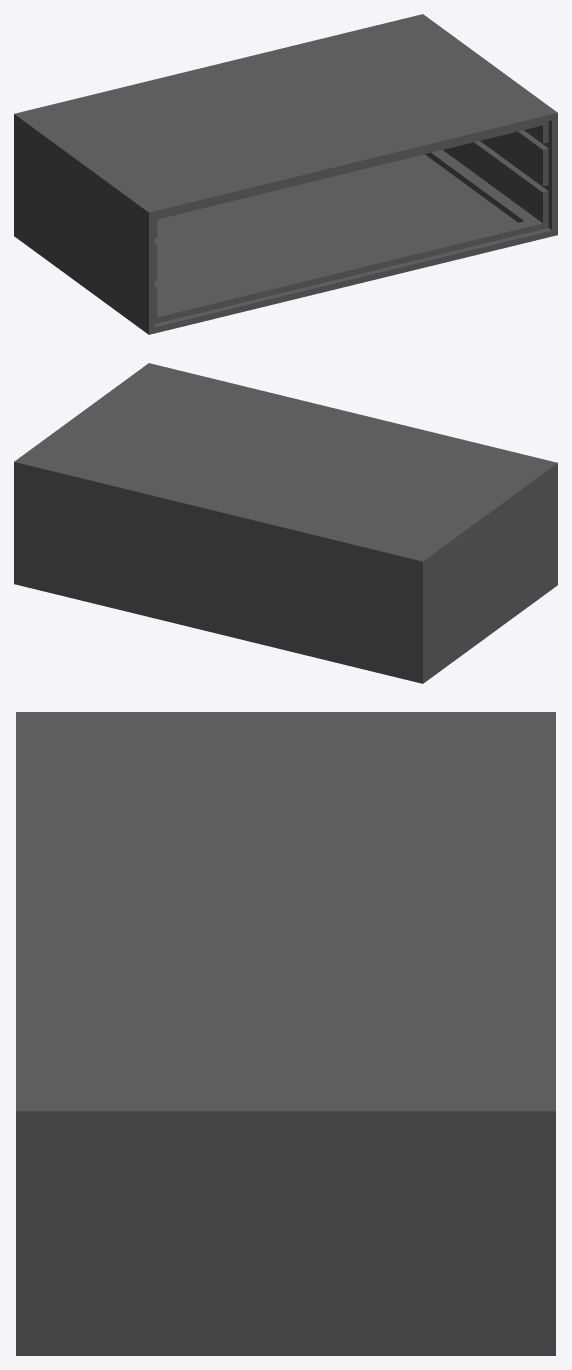
File: oven-1.obj
The picture shows the model from 3 angles, top to bottom: view 1: azimuth 30°, elevation 25°; view 2: azimuth 150°, elevation 25°; view 3: azimuth 270°, elevation 25°; orthographic projection. The views are drawn at different scales.
Bounding box in the file's own units: 7 × 2 × 4.
Materials: 1 (1 with a texture image).
